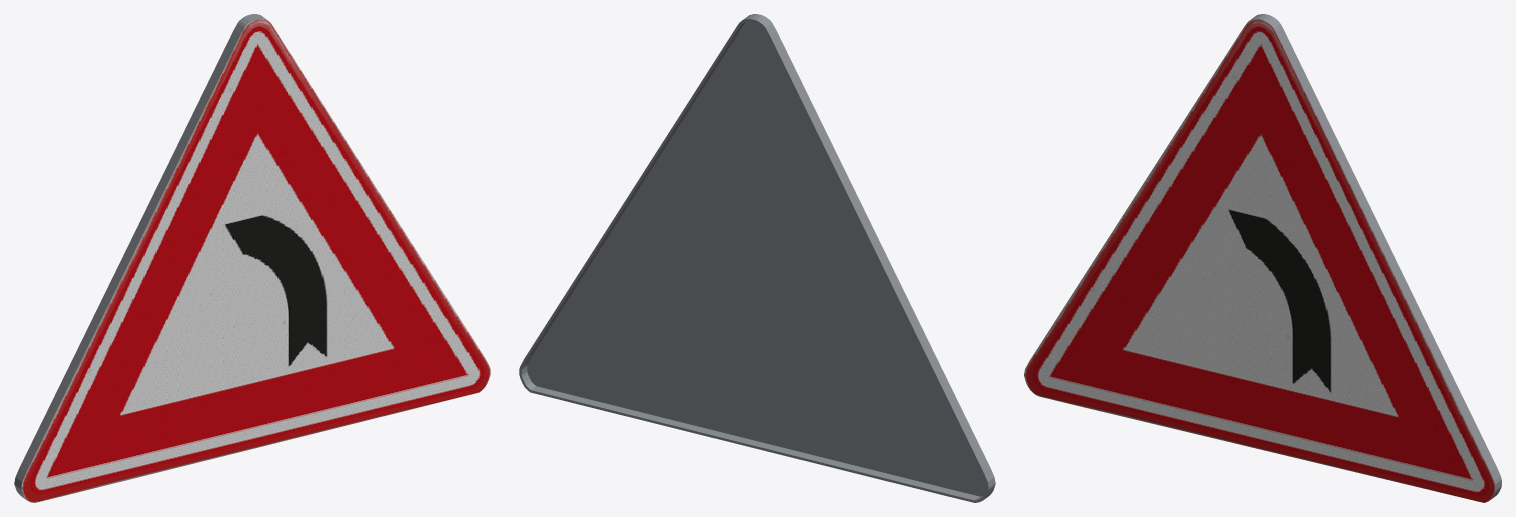
The picture shows the model from 3 angles, left to right: view 1: azimuth 30°, elevation 25°; view 2: azimuth 150°, elevation 25°; view 3: azimuth 330°, elevation 25°; orthographic projection.
Parts seen in each view (by area): view 1: cat_348693043b9b5d3e; view 2: cat_348693043b9b5d3e; view 3: cat_348693043b9b5d3e.
Part boxes in pixels (<box>): cat_348693043b9b5d3e: <box>14,14,490,502</box>; cat_348693043b9b5d3e: <box>519,14,995,502</box>; cat_348693043b9b5d3e: <box>1024,14,1501,502</box>.
Size of the model in its own units: 0.6 by 0.015 by 0.5245.
2 materials, 1 textured.
